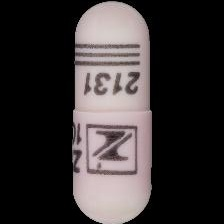49999-210: (0, 0, 224, 224)
